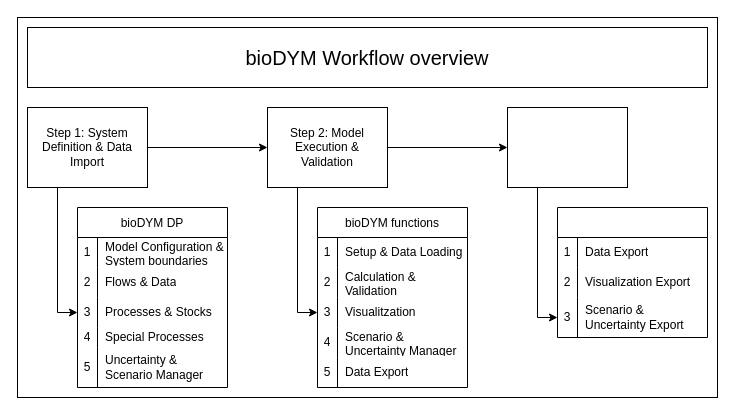
This 735x415 diagram has some shape labels left out. The shapes that lost their labels are listed below. From the top down, each one's box as (x1, y1, x2, y2) in pixels, then its label:
(506, 106, 628, 188): Step 3: Result Visualization & Export
(556, 206, 708, 338): bioDYM Export
